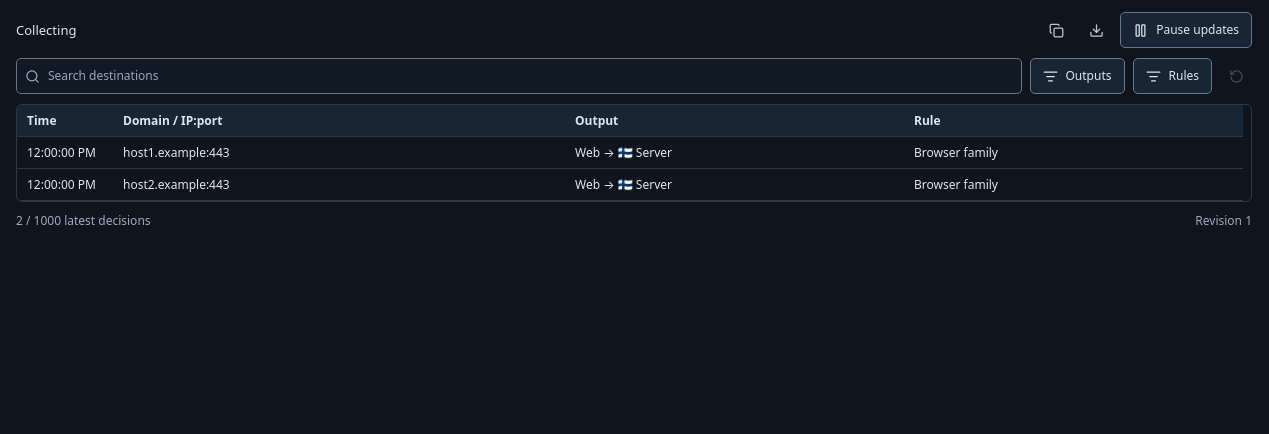
Test: collects while paused, freezes inspection and resumes newest buffer together
Click the button "Pause updates". click: {"x": 1186, "y": 30}
box: [1120,12,1252,48]
Wait 1000 ms
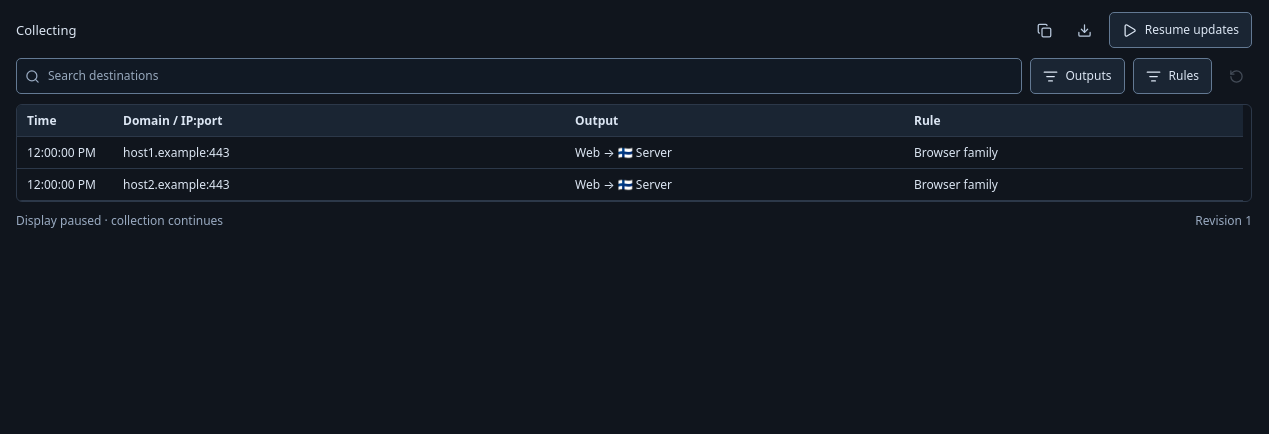
Expected: the text "host8.example" is not shown
Expected: the text "host2.example" is shown, [123,176,230,192]
Click the button "Resume updates". click: {"x": 1180, "y": 30}
box: [1109,12,1252,48]
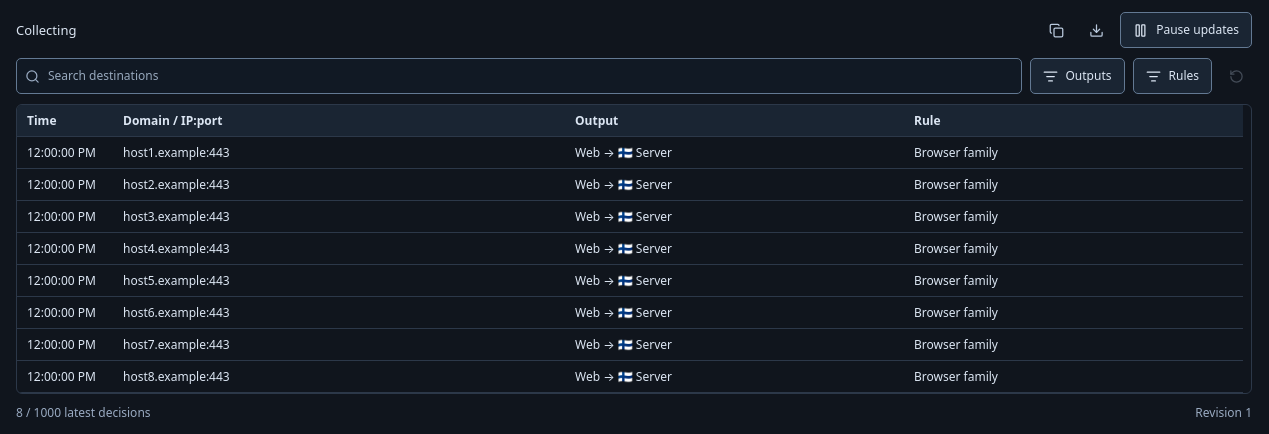
Now the text "host8.example" is shown, box [123,368,230,384]
Now the number of rows is 9
